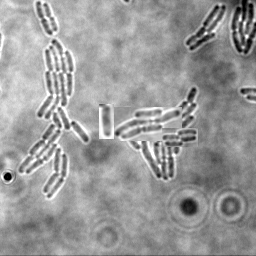Dividing: (34, 1, 52, 37), (99, 104, 114, 139), (41, 3, 57, 33)
Microcolony: (18, 40, 89, 199), (120, 87, 197, 181), (114, 107, 182, 141), (184, 5, 226, 52), (230, 1, 255, 56), (162, 128, 198, 147)
